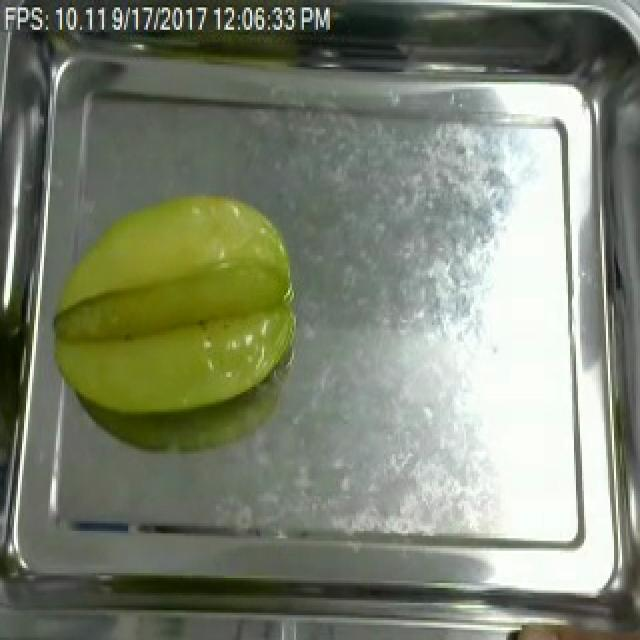fruit: (40, 176, 308, 432)
